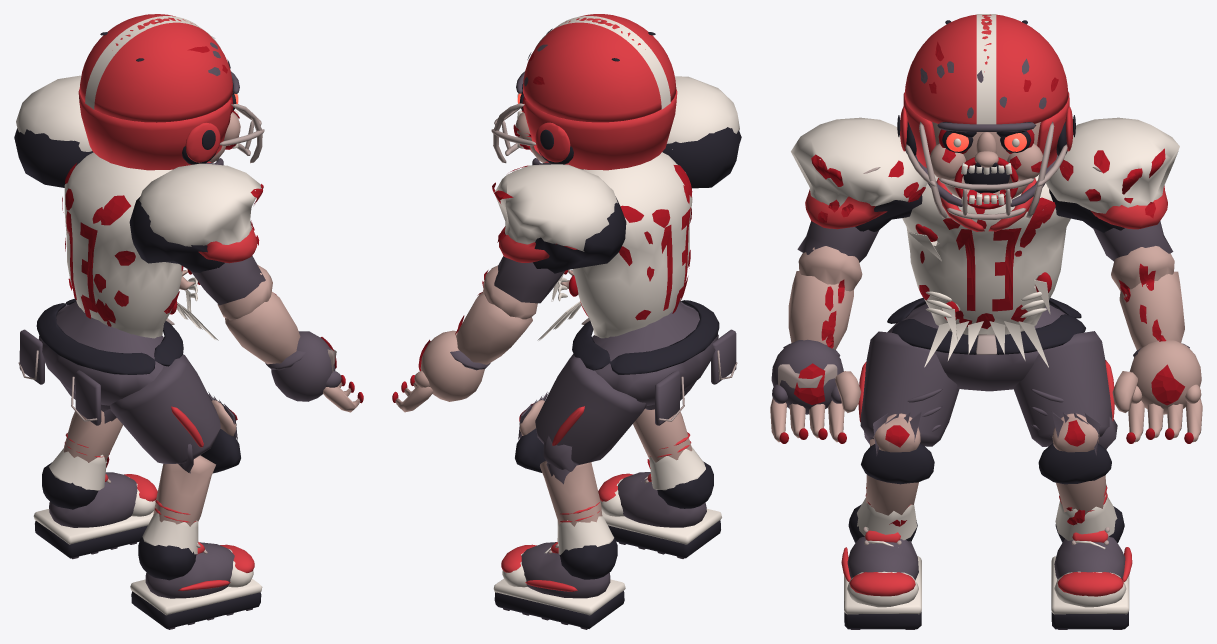
3 views of the same model, side by side, from view 1: azimuth 30°, elevation 25°; view 2: azimuth 150°, elevation 25°; view 3: azimuth 270°, elevation 25° (orthographic). The views are drawn at different scales.
Visible parts, largest first — view 1: head__geometry, torso__geometry, armR__geometry, hip__geometry, footR__geometry, footL__geometry, legR__geometry, armL__geometry, shinR__geometry, foreArmR__geometry, handR__geometry, shinL__geometry; view 2: head__geometry, torso__geometry, armL__geometry, hip__geometry, footL__geometry, footR__geometry, legL__geometry, armR__geometry, shinL__geometry, foreArmL__geometry, handL__geometry, shinR__geometry; view 3: head__geometry, torso__geometry, armR__geometry, armL__geometry, legR__geometry, legL__geometry, hip__geometry, footL__geometry, footR__geometry, handR__geometry, handL__geometry, foreArmR__geometry (+3 smaller).
Part boxes in pixels (box(x1,y1,x2,y2)): head__geometry: box(78, 14, 264, 170); torso__geometry: box(62, 152, 218, 340); armR__geometry: box(129, 163, 265, 305); hip__geometry: box(18, 298, 183, 425); footR__geometry: box(130, 537, 262, 629); footL__geometry: box(33, 462, 157, 559); legR__geometry: box(110, 354, 237, 464); armL__geometry: box(14, 75, 93, 187); shinR__geometry: box(142, 429, 240, 554); foreArmR__geometry: box(217, 264, 305, 370); handR__geometry: box(271, 331, 363, 412); shinL__geometry: box(49, 409, 122, 490); head__geometry: box(491, 14, 677, 170); torso__geometry: box(537, 152, 692, 340); armL__geometry: box(492, 164, 626, 303); hip__geometry: box(572, 300, 737, 425); footL__geometry: box(493, 536, 625, 629); footR__geometry: box(598, 461, 721, 558); legL__geometry: box(518, 354, 646, 465); armR__geometry: box(662, 76, 741, 188); shinL__geometry: box(515, 428, 613, 554); foreArmL__geometry: box(450, 265, 537, 370); handL__geometry: box(392, 330, 484, 412); shinR__geometry: box(633, 409, 705, 490); head__geometry: box(897, 14, 1075, 219); torso__geometry: box(902, 174, 1070, 367); armR__geometry: box(791, 117, 927, 262); armL__geometry: box(1046, 117, 1179, 261); legR__geometry: box(858, 331, 959, 455); legL__geometry: box(1013, 331, 1114, 455); hip__geometry: box(887, 298, 1085, 391); footL__geometry: box(1051, 506, 1132, 629); footR__geometry: box(841, 504, 921, 629); handR__geometry: box(770, 339, 860, 443); handL__geometry: box(1112, 340, 1202, 443); foreArmR__geometry: box(783, 246, 862, 356).
Size of what is drawn, in the model's own units: 0.7224 by 1.76 by 1.17.
